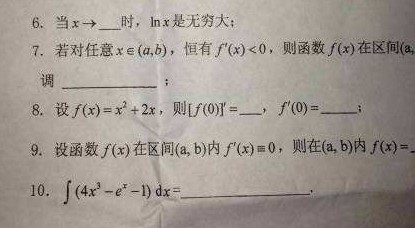text: (29, 137, 415, 158), (31, 40, 415, 59), (28, 180, 317, 204), (29, 99, 363, 117), (29, 11, 238, 32), (40, 73, 170, 91)
